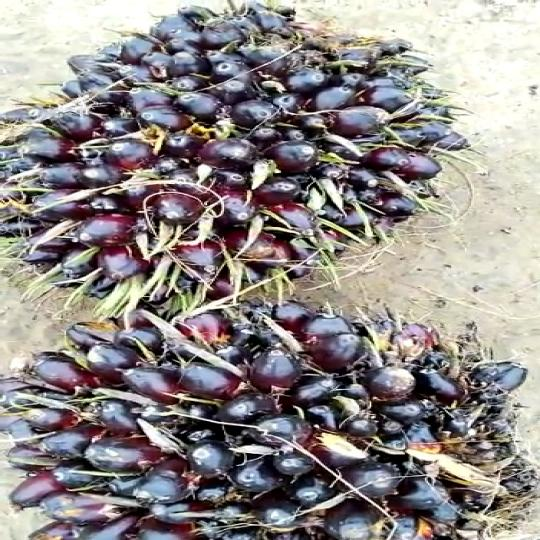mentah: (1, 0, 473, 309), (0, 307, 540, 534)
